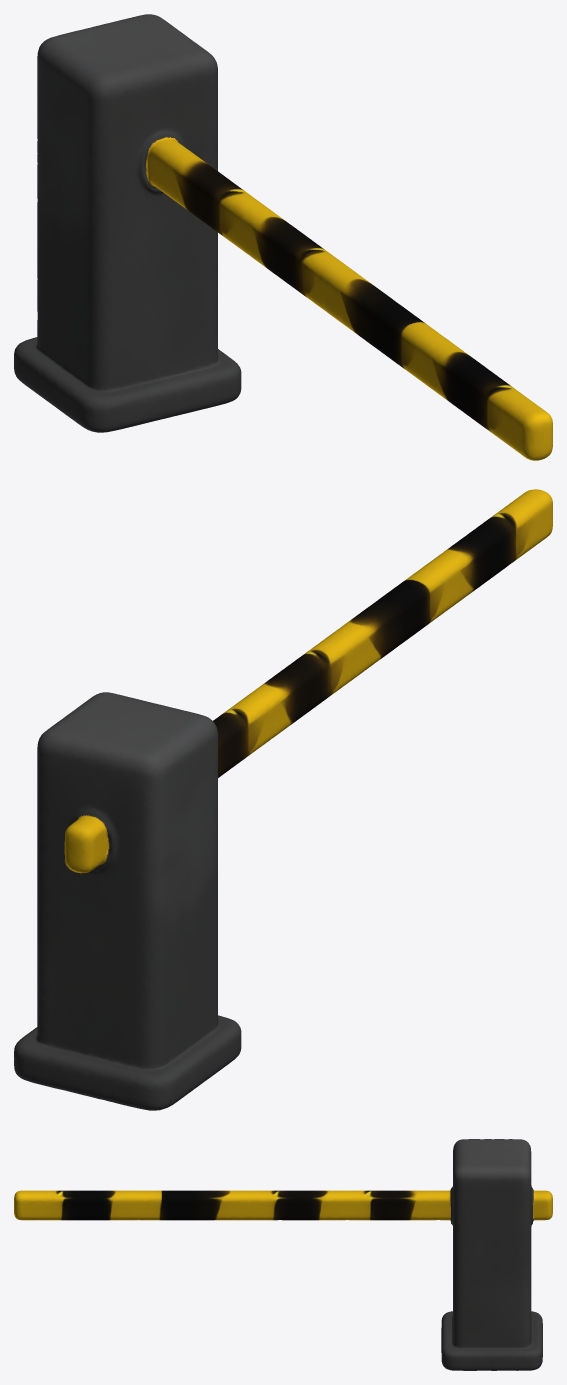
The model's file is barrera.glb.
3 renders of one model, top to bottom at view 1: azimuth 30°, elevation 25°; view 2: azimuth 150°, elevation 25°; view 3: azimuth 270°, elevation 25°, orthographic. The views are drawn at different scales.
Bounding box in the file's own units: 0.1946 × 0.4057 × 1.
Materials: 1 (1 with a texture image).
